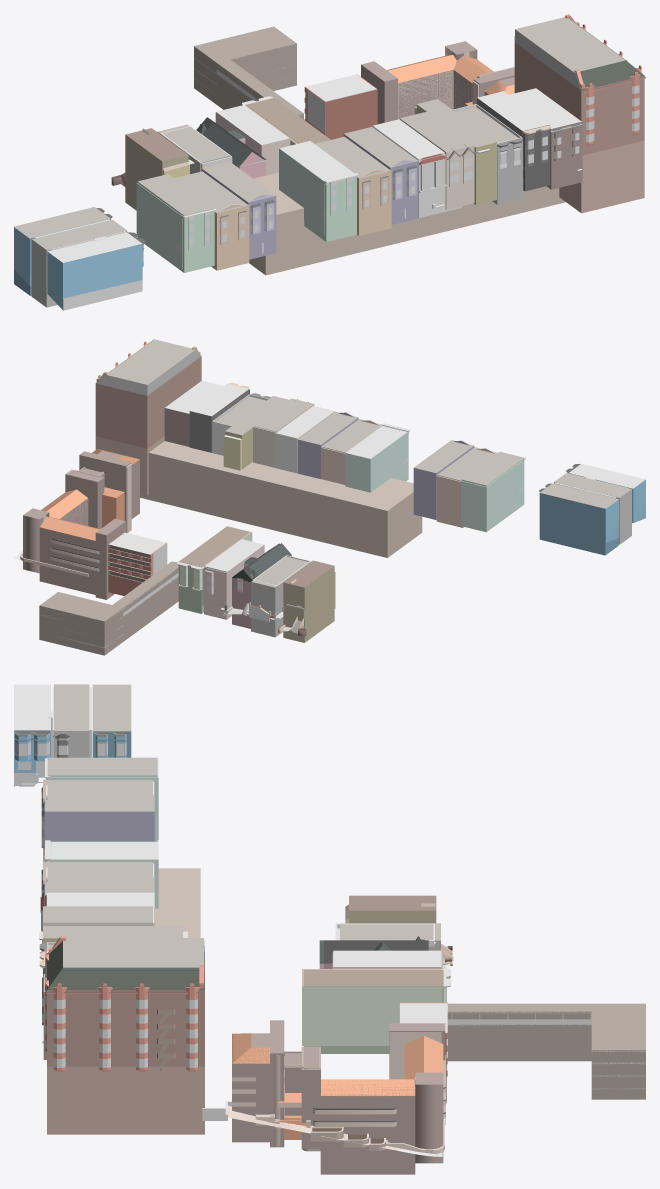
The model's file is city_west1.dae.
3 renders of one model, top to bottom at view 1: azimuth 30°, elevation 25°; view 2: azimuth 150°, elevation 25°; view 3: azimuth 270°, elevation 25°, orthographic. The views are drawn at different scales.
Parts seen in each view (by area): view 1: city_west1_a1000, city_west1_a1500; view 2: city_west1_a1000, city_west1_a1500; view 3: city_west1_a1000, city_west1_a1500.
Boxes of the visible parts, x1=… form: city_west1_a1000: x1=14, y1=17, x2=644, y2=307; city_west1_a1500: x1=14, y1=14, x2=645, y2=310; city_west1_a1000: x1=23, y1=339, x2=631, y2=655; city_west1_a1500: x1=14, y1=339, x2=645, y2=648; city_west1_a1000: x1=43, y1=684, x2=645, y2=1174; city_west1_a1500: x1=14, y1=684, x2=645, y2=1156.
Size of the model in its own units: 176 by 136 by 50.35.
